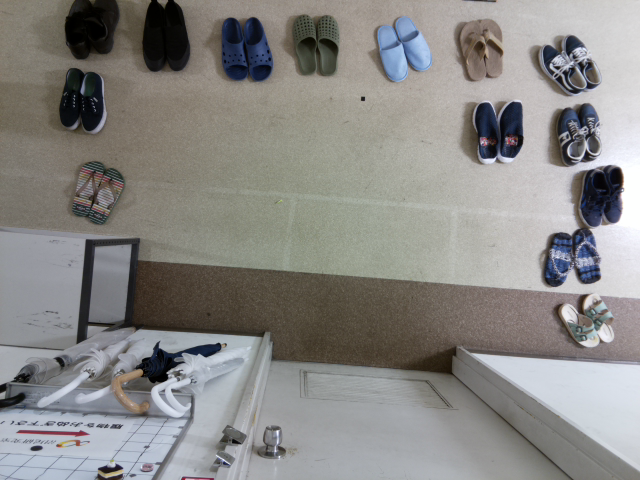Copy of Copy of Copy of Copy of Copy of Copy of Copy of Copy of Copy of Copy of: (555, 105, 586, 166), (578, 166, 605, 226), (577, 101, 602, 160), (601, 163, 623, 224)
Copy of Copy of Copy of Copy of Copy of Copy of Copy of Copy of Copy of shoes: (561, 33, 601, 90)
Copy of Copy of Copy of Copy of Copy of Copy of Copy of Copy of shoes: (536, 42, 585, 97)
Copy of Copy of Copy of Copy of Copy of Copy of Copy of sandal: (459, 21, 487, 80)
Copy of Copy of Copy of Copy of Copy of Copy of Copy of shoes: (498, 99, 525, 163)
Copy of Copy of Copy of Copy of Copy of Copy of sandal: (479, 17, 505, 77)
Copy of Copy of Copy of Copy of Copy of Copy of shoes: (472, 99, 498, 163)
Copy of Copy of Copy of Copy of Copy of sandal: (556, 301, 600, 348)
Copy of Copy of Copy of Copy of Copy of shoes: (58, 67, 84, 131)
Copy of Copy of Copy of Copy of Copy of slipper: (219, 16, 248, 81)
Copy of Copy of Copy of Copy of sandal: (581, 291, 615, 345)
Copy of Copy of Copy of Copy of shoes: (79, 70, 106, 134)
Copy of Copy of Copy of Copy of slipper: (241, 16, 273, 81)
Copy of Copy of Copy of sandal: (571, 227, 602, 283)
Copy of Copy of Copy of shoes: (63, 1, 92, 59)
Copy of Copy of Copy of slipper: (292, 14, 317, 74)
Copy of Copy of sandal: (541, 231, 574, 287)
Copy of Copy of shoes: (90, 1, 120, 54)
Copy of Copy of slipper: (316, 14, 341, 74)
Copy of sandal: (71, 160, 104, 217)
Copy of shoes: (142, 1, 167, 72)
Copy of slipper: (376, 23, 410, 81)
sandal: (88, 167, 124, 223)
shoes: (165, 1, 190, 71)
slipper: (394, 16, 432, 71)
